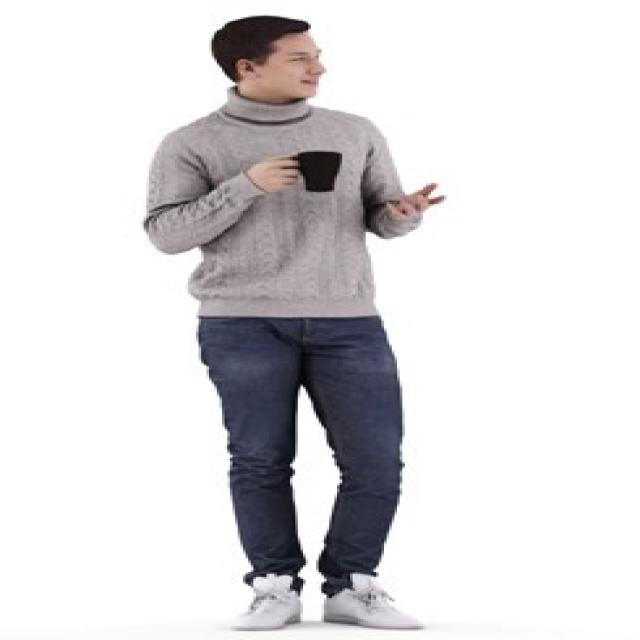standing: (135, 14, 452, 628)
